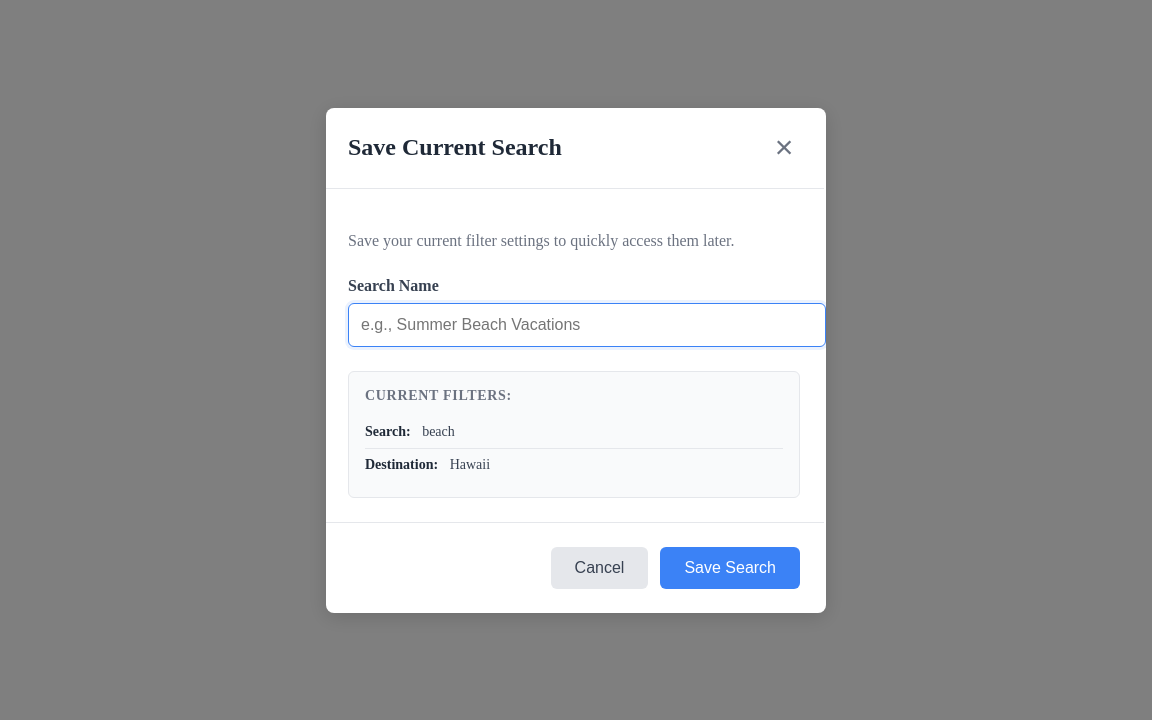
SaveSearchModal › validates empty name
The image size is (1152, 720).
Click the button "Save Search". click: coordinates (730, 568)
box: [660,546,800,588]
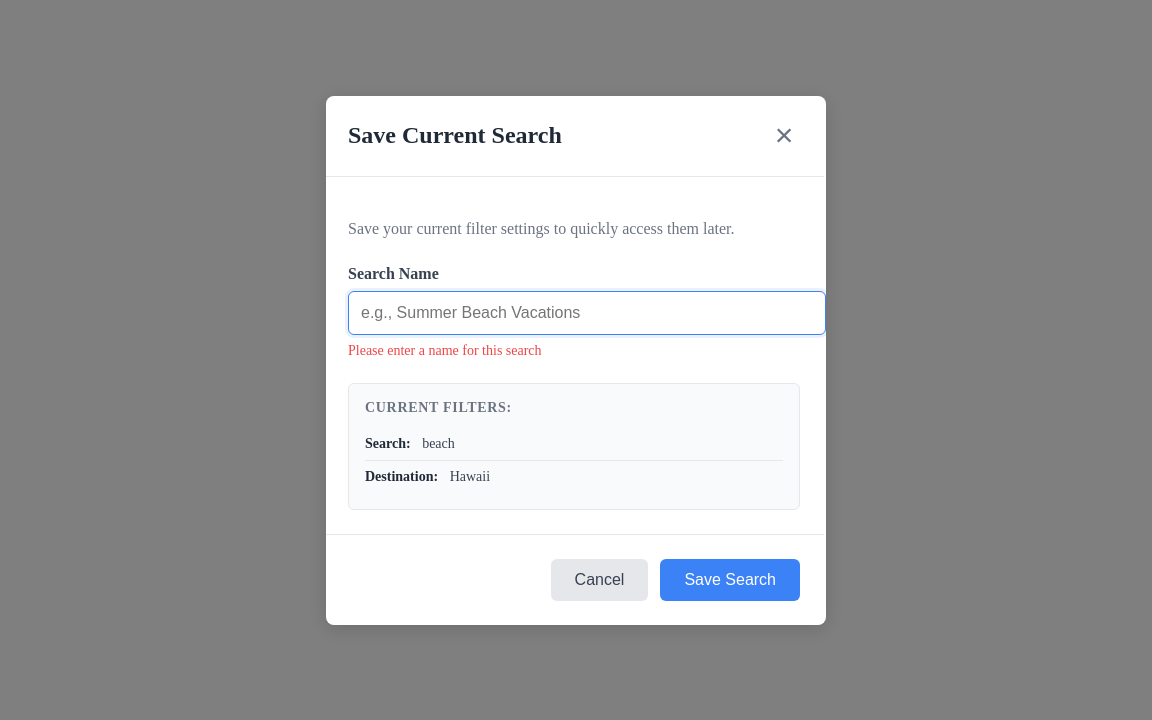
Expected: the text "Please enter a name for this search" is shown, [348,342,542,358]
